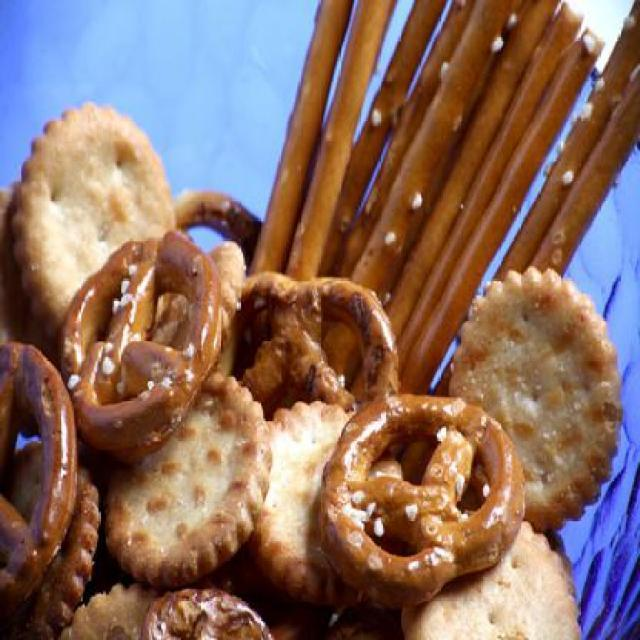Salatini packaged: (9, 32, 626, 636)
